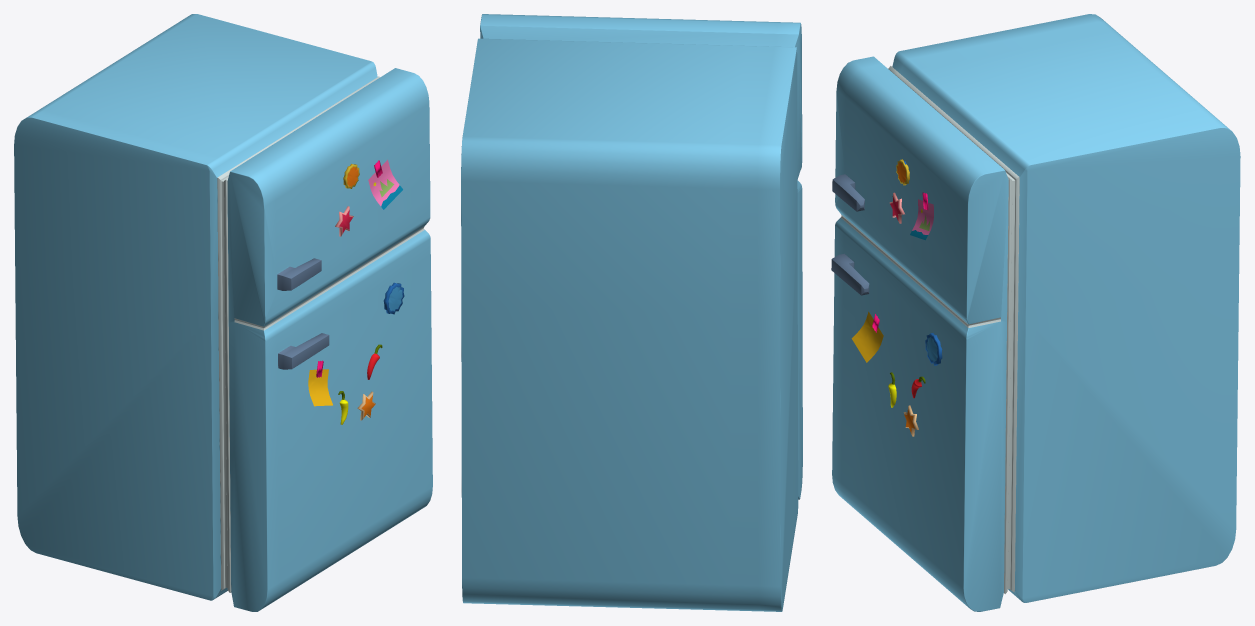
Rendered from cute_refrigerator.glb.
3 renders of one model, left to right at view 1: azimuth 30°, elevation 25°; view 2: azimuth 150°, elevation 25°; view 3: azimuth 270°, elevation 25°, orthographic. The views are drawn at different scales.
Visible parts, largest first — view 1: Cube_0, Plane_2, Circle.001_4, Circle.002_5; view 2: Cube_0; view 3: Cube_0, Plane_2, Circle.001_4.
Part boxes in pixels (x1,y1,x2,y2): Cube_0: (14, 14, 432, 611); Plane_2: (308, 159, 402, 406); Circle.001_4: (343, 164, 404, 314); Circle.002_5: (335, 206, 375, 420); Cube_0: (461, 14, 802, 611); Cube_0: (831, 14, 1240, 611); Plane_2: (851, 199, 933, 362); Circle.001_4: (896, 159, 942, 365).
Size of the model in its own units: 3.18 by 3.83 by 3.22.
6 materials, 6 textured.
